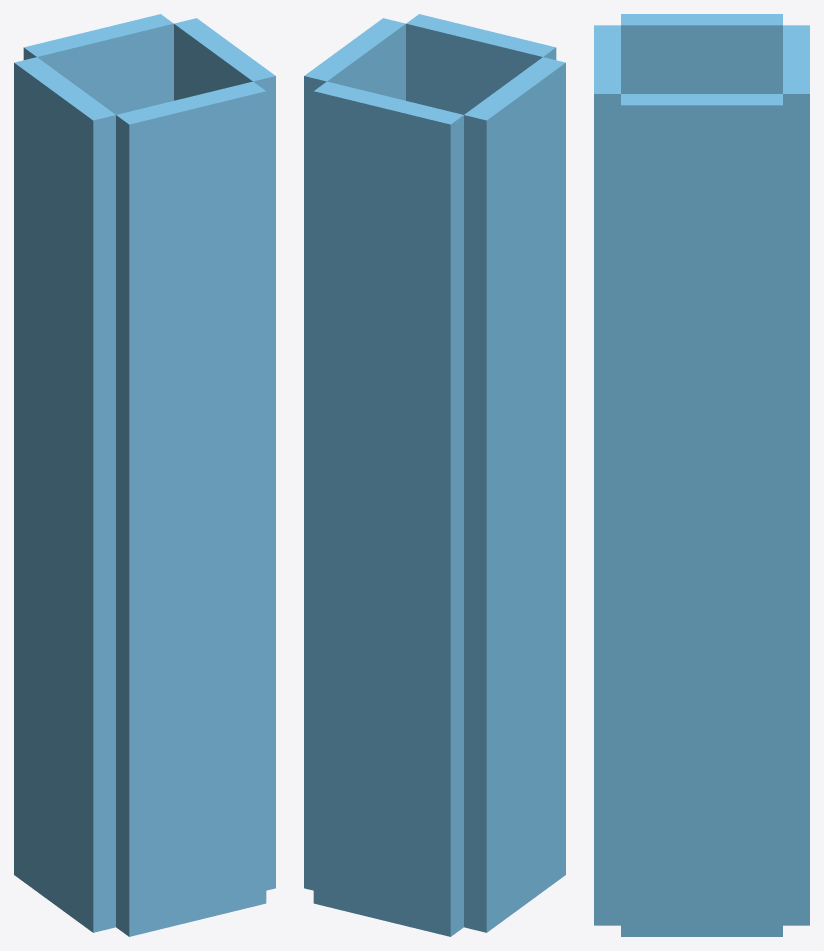
Rendered from vial-glass.obj.
3 views of the same model, side by side, from view 1: azimuth 30°, elevation 25°; view 2: azimuth 150°, elevation 25°; view 3: azimuth 270°, elevation 25° (orthographic). The views are drawn at different scales.
Size of the model in its own units: 0.8 by 3.4 by 0.8.
1 material, 1 textured.
